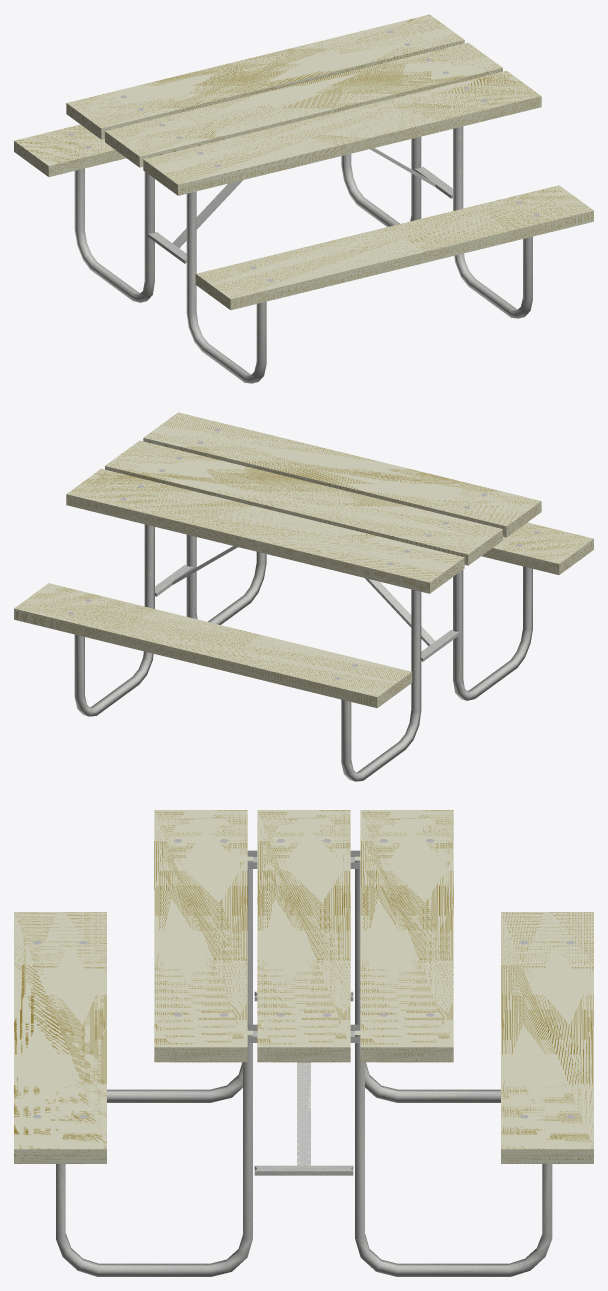
3 views of the same model, one above another, from view 1: azimuth 30°, elevation 25°; view 2: azimuth 150°, elevation 25°; view 3: azimuth 270°, elevation 25° (orthographic). The views are drawn at different scales.
Parts seen in each view (by area): view 1: mesh5_mesh5-geometry, mesh2_mesh2-geometry, mesh9_mesh9-geometry, mesh7_mesh7-geometry; view 2: mesh5_mesh5-geometry, mesh2_mesh2-geometry, mesh9_mesh9-geometry, mesh7_mesh7-geometry; view 3: mesh5_mesh5-geometry, mesh2_mesh2-geometry, mesh9_mesh9-geometry, mesh7_mesh7-geometry, mesh8_mesh8-geometry.
Boxes of the visible parts, box(x1,y1,x2,y2) form: mesh5_mesh5-geometry: box(14, 14, 593, 310); mesh2_mesh2-geometry: box(74, 126, 532, 383); mesh9_mesh9-geometry: box(172, 148, 435, 248); mesh7_mesh7-geometry: box(148, 167, 452, 263); mesh5_mesh5-geometry: box(14, 412, 593, 708); mesh2_mesh2-geometry: box(74, 524, 532, 781); mesh9_mesh9-geometry: box(172, 546, 435, 646); mesh7_mesh7-geometry: box(155, 565, 459, 661); mesh5_mesh5-geometry: box(14, 810, 593, 1163); mesh2_mesh2-geometry: box(56, 856, 552, 1276); mesh9_mesh9-geometry: box(297, 1062, 310, 1165); mesh7_mesh7-geometry: box(254, 991, 353, 1175); mesh8_mesh8-geometry: box(247, 850, 360, 1042).
Bounding box in the file's own units: 0.6556 × 0.3347 × 0.6769.
